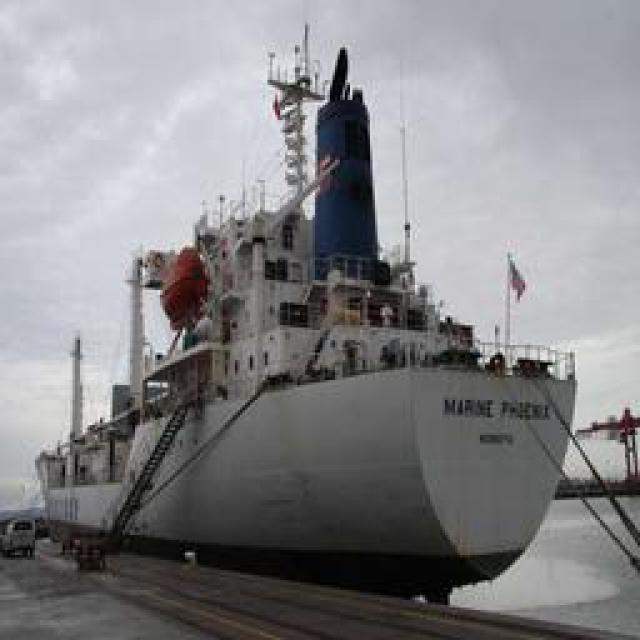Ship: (32, 31, 590, 596)
